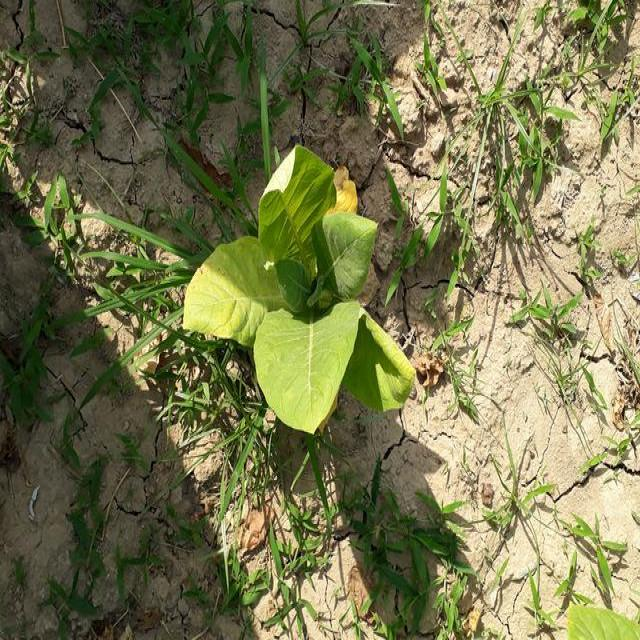crop: (181, 136, 423, 434)
